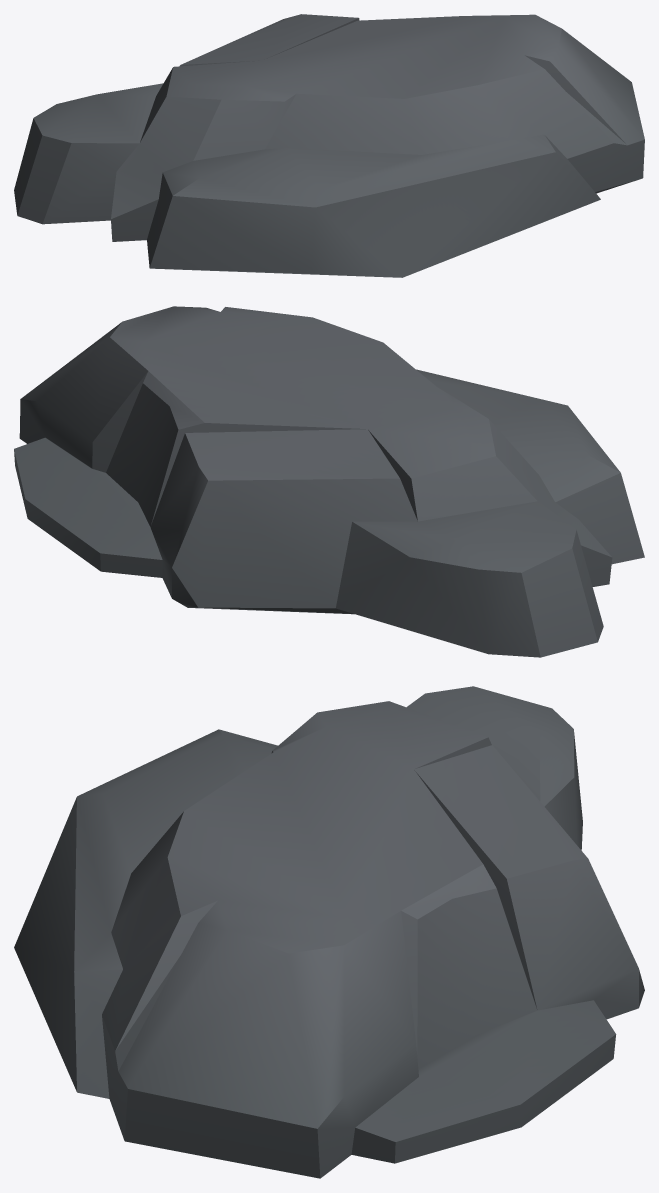
The model's file is Rock_4.fbx.
3 renders of one model, top to bottom at view 1: azimuth 30°, elevation 25°; view 2: azimuth 150°, elevation 25°; view 3: azimuth 270°, elevation 25°, orthographic. The views are drawn at different scales.
Visible parts, largest first — view 1: Rock_4; view 2: Rock_4; view 3: Rock_4.
Boxes of the visible parts, bbox=[...] form: Rock_4: bbox=[14, 14, 644, 277]; Rock_4: bbox=[14, 306, 644, 657]; Rock_4: bbox=[14, 686, 644, 1178].
Size of the model in its own units: 749 by 163 by 496.
